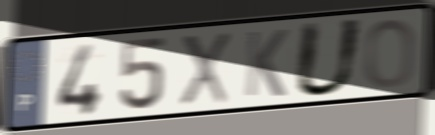4: (54, 40, 104, 118)
5: (119, 34, 169, 113)
K: (242, 27, 291, 100)
O: (362, 16, 418, 91)
U: (291, 16, 367, 100)
X: (178, 29, 232, 109)
